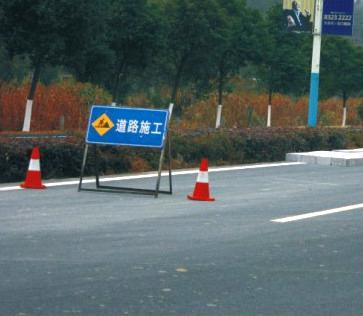sign: (86, 111, 169, 143)
